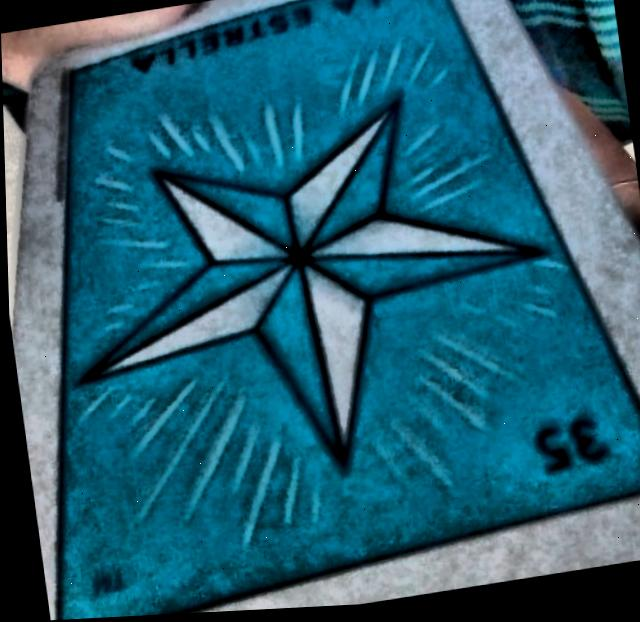La Estrella: (54, 0, 640, 620)
